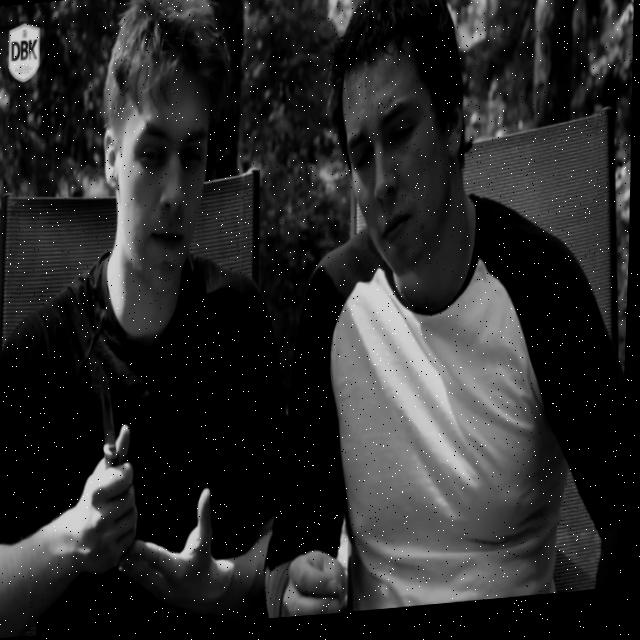knife: (90, 352, 130, 469)
